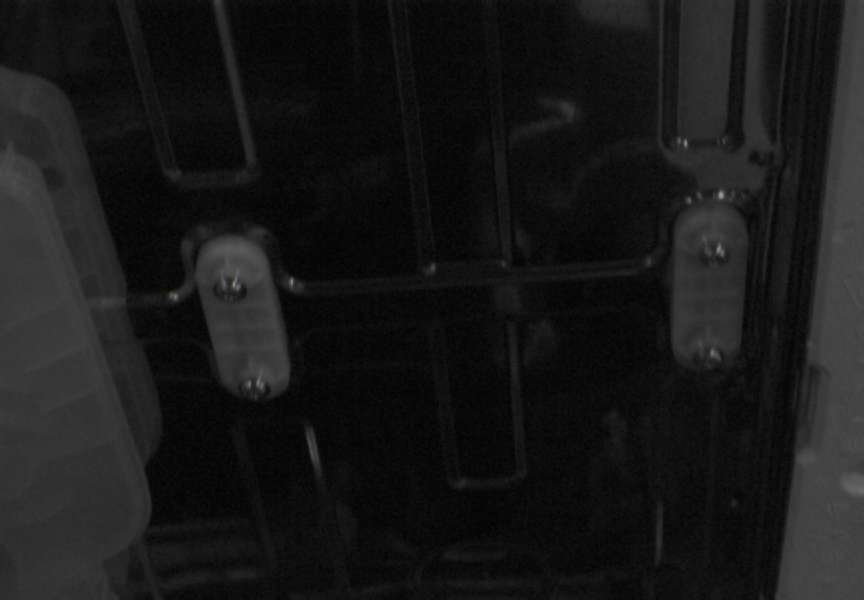screw: (213, 274, 247, 304), (699, 238, 729, 268), (239, 376, 271, 402), (694, 345, 724, 371)
